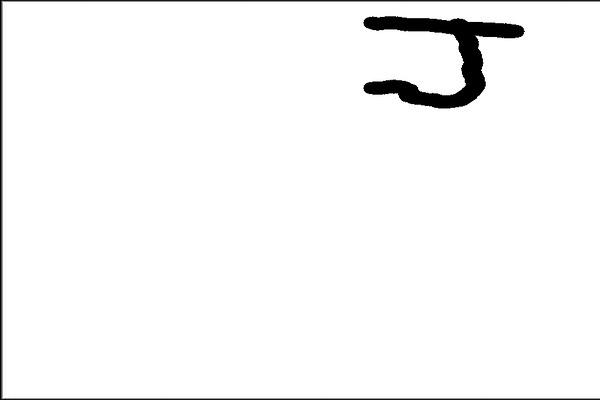J: (351, 11, 530, 112)
